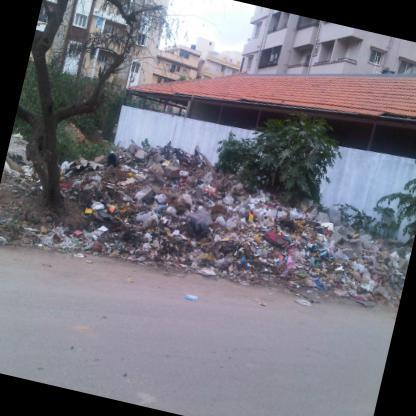Garbage: (203, 188, 303, 266), (107, 222, 170, 271), (43, 220, 98, 264), (317, 268, 370, 310), (228, 234, 262, 289), (292, 266, 333, 310), (275, 229, 305, 287), (86, 190, 124, 223), (284, 244, 330, 269), (260, 200, 287, 223), (178, 288, 204, 308)
